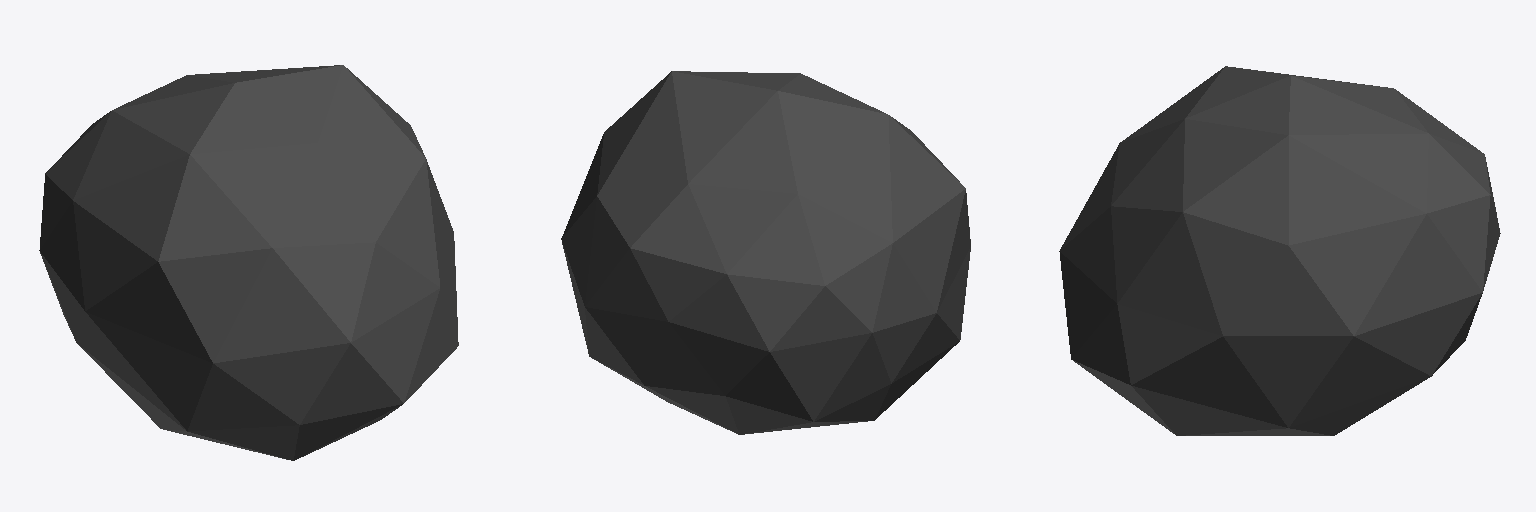
Rendered from rock.obj.
3 views of the same model, side by side, from view 1: azimuth 30°, elevation 25°; view 2: azimuth 150°, elevation 25°; view 3: azimuth 270°, elevation 25° (orthographic).
Parts seen in each view (by area): view 1: GeoSphere001; view 2: GeoSphere001; view 3: GeoSphere001.
Boxes of the visible parts, x1,y1,x2,y2 form: GeoSphere001: [39, 65, 458, 460]; GeoSphere001: [561, 71, 970, 434]; GeoSphere001: [1059, 66, 1500, 435].
Size of the model in its own units: 0.9266 by 0.9019 by 1.04.